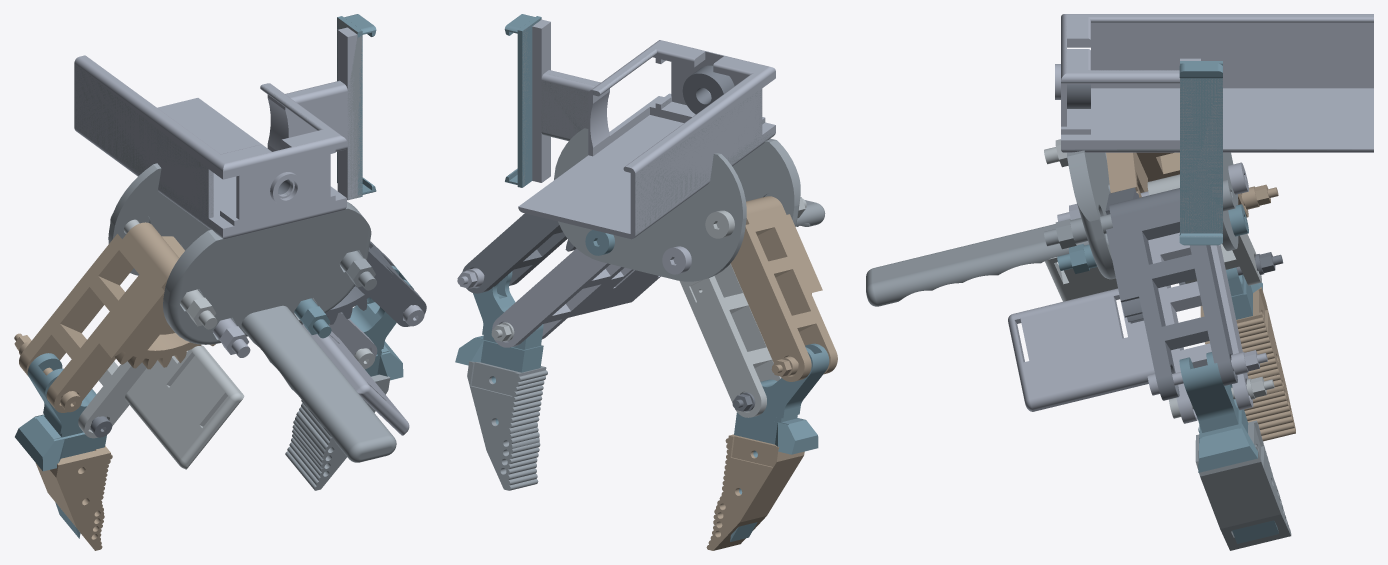
The model's file is flexiv.glb.
3 views of the same model, side by side, from view 1: azimuth 30°, elevation 25°; view 2: azimuth 150°, elevation 25°; view 3: azimuth 270°, elevation 25° (orthographic). The views are drawn at different scales.
Visible parts, largest first — view 1: moving-handle, handheld-housing, left-drive, left-inner-link, fingertip-carrier, right-fingertip-pad, right-inner-link, left-fingertip-pad, right-drive, tracker-bracket, pivot-p01, pivot-p04 (+3 smaller); view 2: handheld-housing, moving-handle, left-drive, fingertip-carrier, left-fingertip-pad, left-inner-link, right-inner-link, right-fingertip-pad, right-drive, tracker-bracket, camera-support, pivot-p01 (+2 smaller); view 3: handheld-housing, right-inner-link, moving-handle, right-drive, tracker-bracket, fingertip-carrier, left-fingertip-pad, right-fingertip-pad, left-inner-link, left-drive, pivot-p04, pivot-p03 (+4 smaller).
Boxes of the visible parts, x1=… form: moving-handle: x1=74, y1=17, x2=396, y2=462; handheld-housing: x1=74, y1=27, x2=357, y2=239; left-drive: x1=19, y1=222, x2=215, y2=412; left-inner-link: x1=78, y1=345, x2=244, y2=469; fingertip-carrier: x1=15, y1=265, x2=413, y2=538; right-fingertip-pad: x1=35, y1=446, x2=112, y2=550; right-inner-link: x1=302, y1=312, x2=409, y2=435; left-fingertip-pad: x1=285, y1=374, x2=390, y2=490; right-drive: x1=301, y1=241, x2=426, y2=326; tracker-bracket: x1=337, y1=14, x2=376, y2=197; pivot-p01: x1=110, y1=213, x2=217, y2=329; pivot-p04: x1=339, y1=250, x2=376, y2=290; handheld-housing: x1=518, y1=19, x2=775, y2=239; moving-handle: x1=512, y1=19, x2=825, y2=281; left-drive: x1=730, y1=196, x2=837, y2=381; fingertip-carrier: x1=455, y1=271, x2=829, y2=541; left-fingertip-pad: x1=467, y1=361, x2=547, y2=490; left-inner-link: x1=679, y1=263, x2=781, y2=417; right-inner-link: x1=492, y1=248, x2=660, y2=347; right-fingertip-pad: x1=706, y1=434, x2=804, y2=550; right-drive: x1=462, y1=213, x2=576, y2=293; tracker-bracket: x1=504, y1=14, x2=541, y2=187; camera-support: x1=682, y1=65, x2=734, y2=114; pivot-p01: x1=705, y1=196, x2=806, y2=238; handheld-housing: x1=1055, y1=14, x2=1373, y2=152; right-inner-link: x1=1008, y1=232, x2=1253, y2=423; moving-handle: x1=866, y1=26, x2=1373, y2=306; right-drive: x1=1105, y1=187, x2=1237, y2=400; tracker-bracket: x1=1179, y1=61, x2=1222, y2=245; fingertip-carrier: x1=1179, y1=267, x2=1278, y2=543; left-fingertip-pad: x1=1195, y1=420, x2=1291, y2=550; right-fingertip-pad: x1=1200, y1=287, x2=1295, y2=441; left-inner-link: x1=1045, y1=174, x2=1261, y2=301; left-drive: x1=1106, y1=152, x2=1248, y2=217; pivot-p04: x1=1044, y1=179, x2=1235, y2=249; pivot-p03: x1=1057, y1=204, x2=1248, y2=273.
Bounding box in the file's own units: 0.1483 × 0.1854 × 0.1688.
